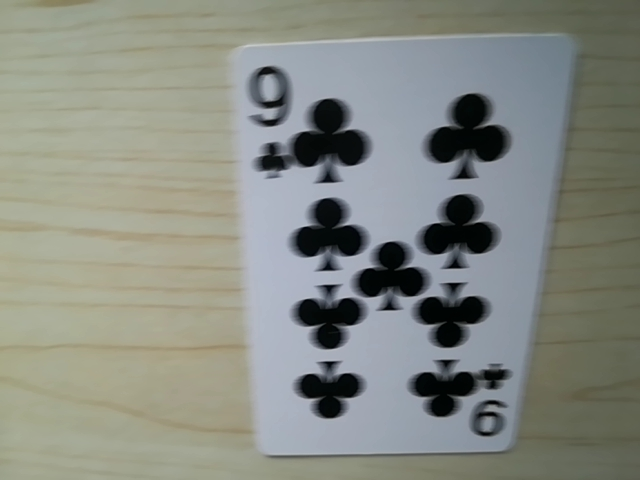mh 9: (240, 56, 299, 178), (456, 368, 513, 438)
